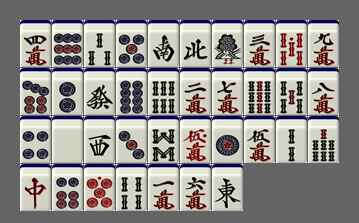0m: (180, 116, 211, 163)
0p: (84, 164, 115, 211)
0s: (276, 20, 307, 67)
1m: (148, 164, 179, 211)
1p: (212, 116, 243, 163)
1s: (212, 20, 243, 67)
1z: (212, 164, 243, 211)
2m: (180, 68, 211, 115)
2p: (52, 68, 83, 115)
2s: (276, 116, 307, 163)
2z: (148, 20, 179, 67)
3m: (244, 20, 275, 67)
3p: (116, 116, 147, 163)
3s: (84, 20, 115, 67)
3z: (84, 116, 115, 163)
4m: (20, 20, 51, 67)
4p: (20, 116, 51, 163)
4s: (116, 164, 147, 211)
4z: (180, 20, 211, 67)
5m: (244, 116, 275, 163)
5p: (116, 20, 147, 67)
5s: (276, 68, 307, 115)
5z: (52, 116, 83, 163)
6m: (180, 164, 211, 211)
6p: (52, 164, 83, 211)
6s: (148, 68, 179, 115)
6z: (84, 68, 115, 115)
7m: (212, 68, 243, 115)
7p: (20, 68, 51, 115)
7s: (308, 116, 339, 163)
7z: (20, 164, 51, 211)
8m: (308, 68, 339, 115)
8p: (116, 68, 147, 115)
8s: (148, 116, 179, 163)
9m: (308, 20, 339, 67)
9p: (52, 20, 83, 67)
9s: (244, 68, 275, 115)
